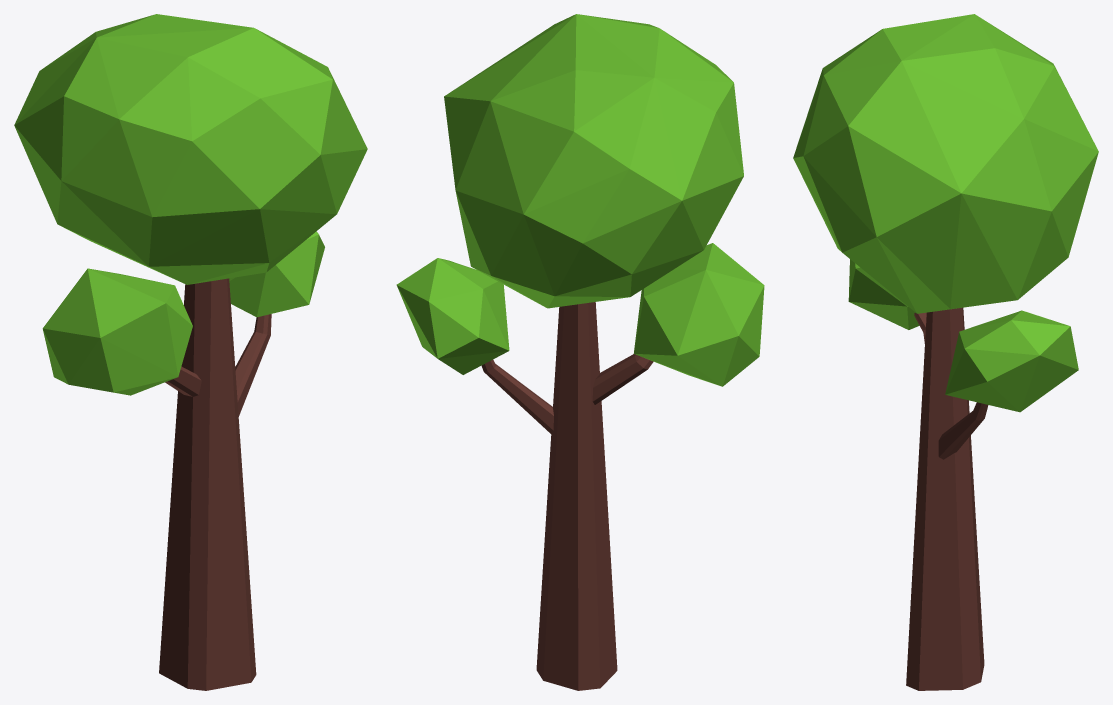
File: tree_medium.fbx
The picture shows the model from 3 angles, left to right: view 1: azimuth 30°, elevation 25°; view 2: azimuth 150°, elevation 25°; view 3: azimuth 270°, elevation 25°; orthographic projection. The views are drawn at different scales.
Parts seen in each view (by area): view 1: Cube.017; view 2: Cube.017; view 3: Cube.017.
Part boxes in pixels (x1,y1,x2,y2): Cube.017: (14, 14, 367, 690); Cube.017: (396, 14, 764, 690); Cube.017: (793, 14, 1098, 690).
Size of the model in its own units: 117 by 240 by 106.
